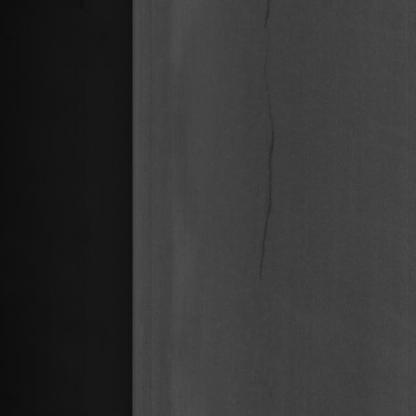water_spot: (250, 8, 288, 296)
